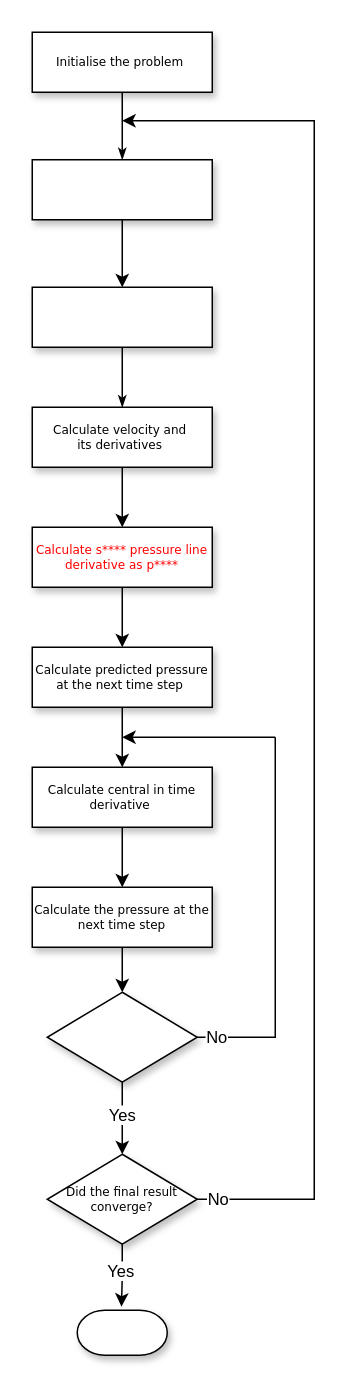
Some shapes in this 353 by 1392 pixel diagram are drawn without their labels. Each missing label, with the centre of its shape:
"Change status to In Process" belongs at pixel 123 319.
"Did the mid- intersection converge" belongs at pixel 123 1039.
"Show Results" belongs at pixel 123 1334.
"Use IAST to get gas loading" belongs at pixel 123 191.
